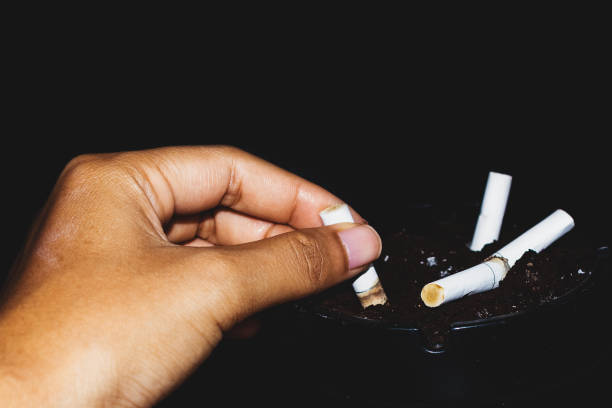cigarette: (415, 206, 580, 309), (320, 205, 388, 308), (470, 170, 513, 252)
